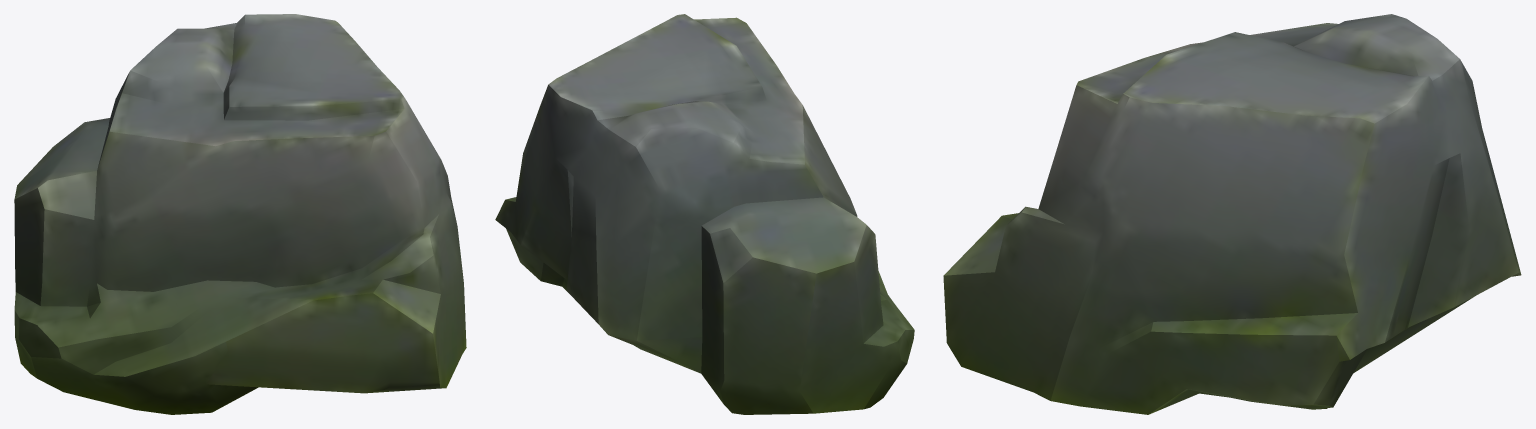
Rendered from Rock_Medium_3.glb.
3 renders of one model, left to right at view 1: azimuth 30°, elevation 25°; view 2: azimuth 150°, elevation 25°; view 3: azimuth 270°, elevation 25°, orthographic. The views are drawn at different scales.
Parts seen in each view (by area): view 1: Rock_Medium_3; view 2: Rock_Medium_3; view 3: Rock_Medium_3.
Part boxes in pixels (bbox=[...]): Rock_Medium_3: bbox=[14, 14, 466, 414]; Rock_Medium_3: bbox=[495, 14, 914, 414]; Rock_Medium_3: bbox=[943, 14, 1521, 414].
Size of the model in its own units: 3.42 by 2.32 by 3.48.
1 material, 1 textured.
